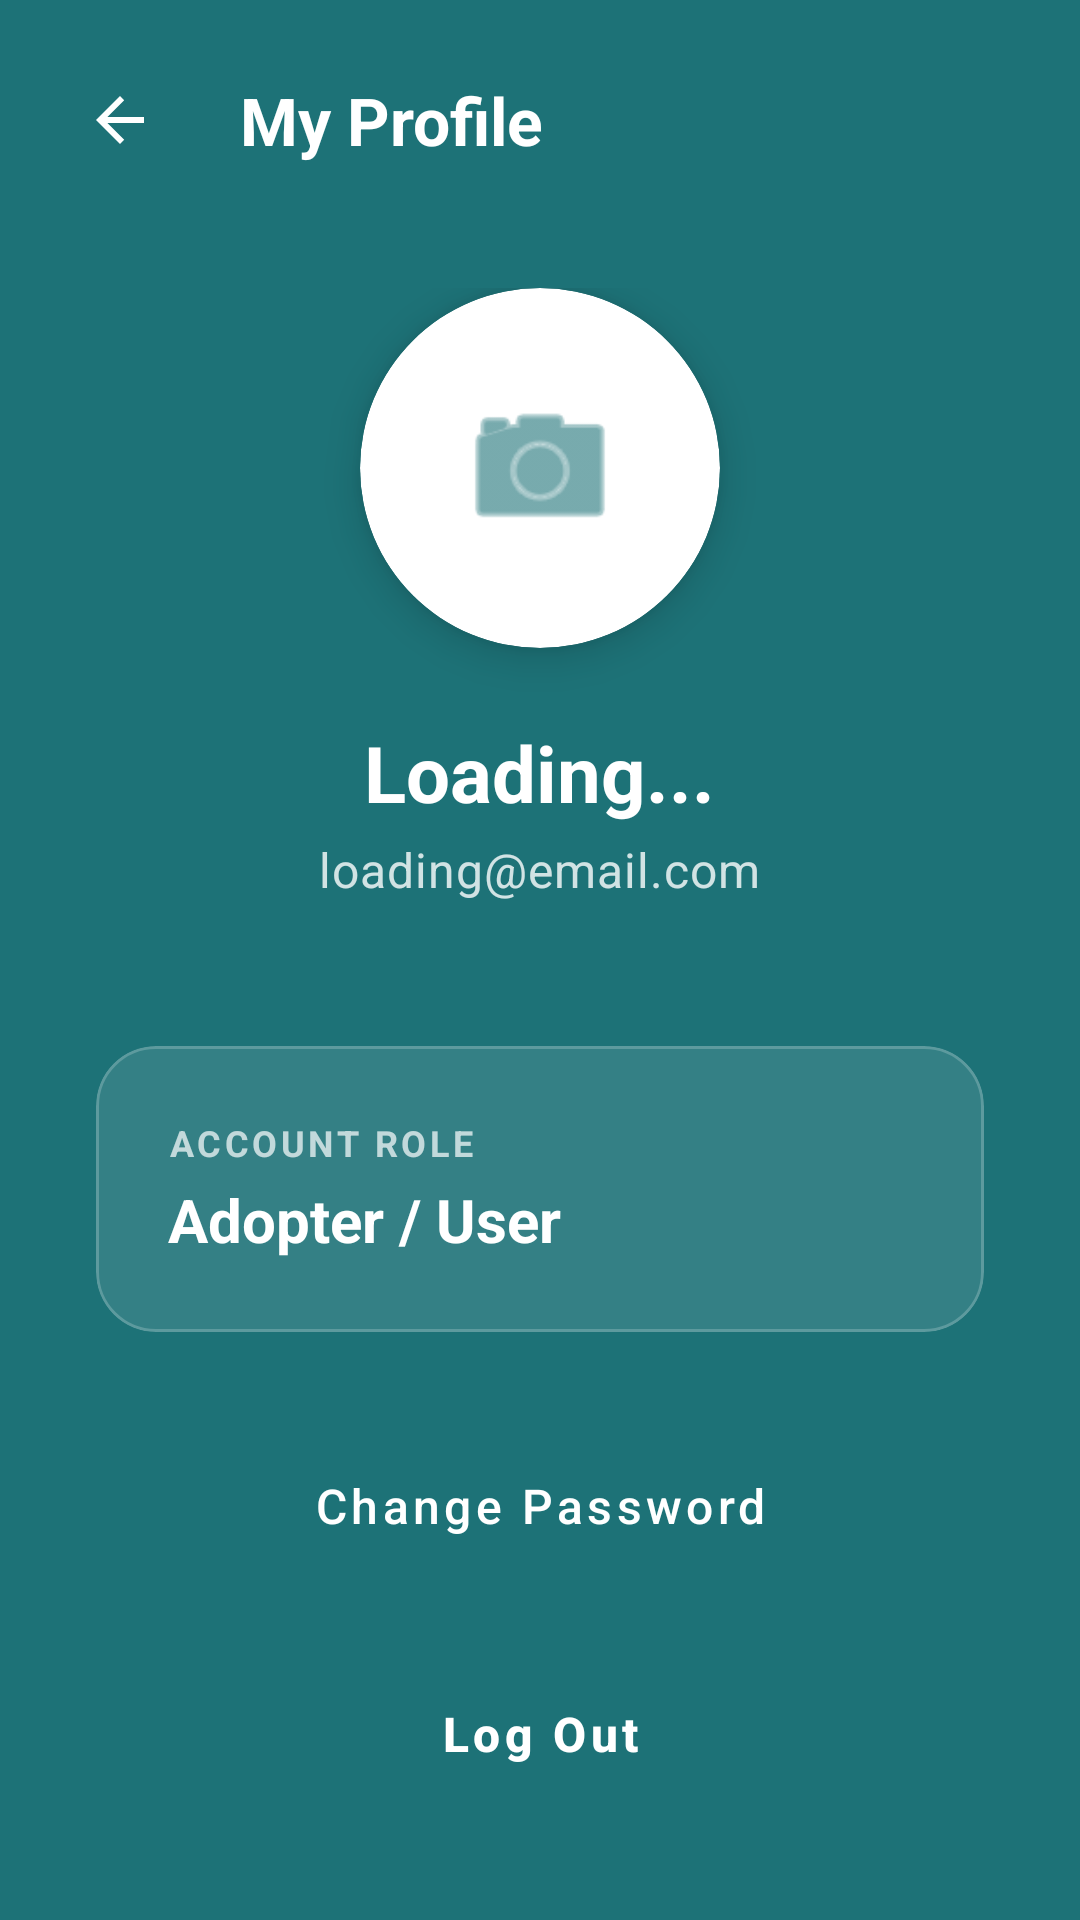

Icons on this 1080 × 1920 Android screen, each with the point to tap as (x,y):
Back: (120,120)
camera: (540,468)
